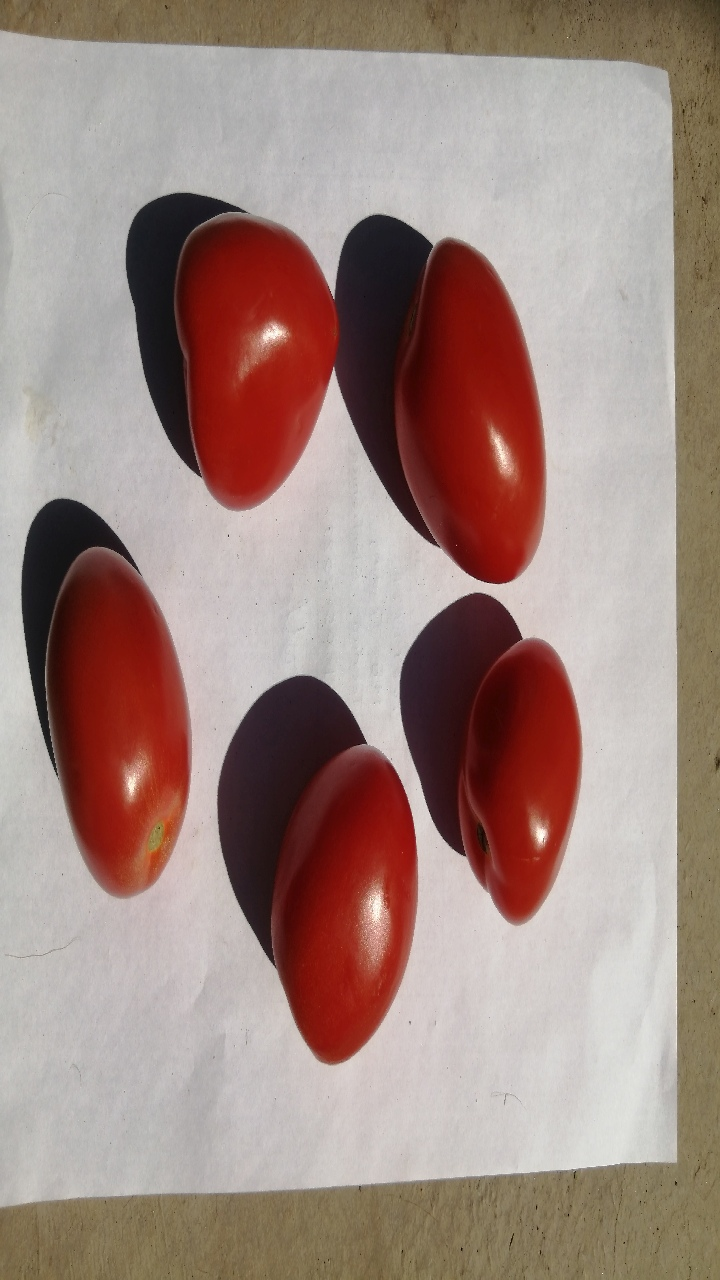tomateRojo: (23, 531, 224, 915), (378, 209, 566, 602), (148, 177, 346, 528), (271, 732, 429, 1077), (438, 611, 600, 926)
